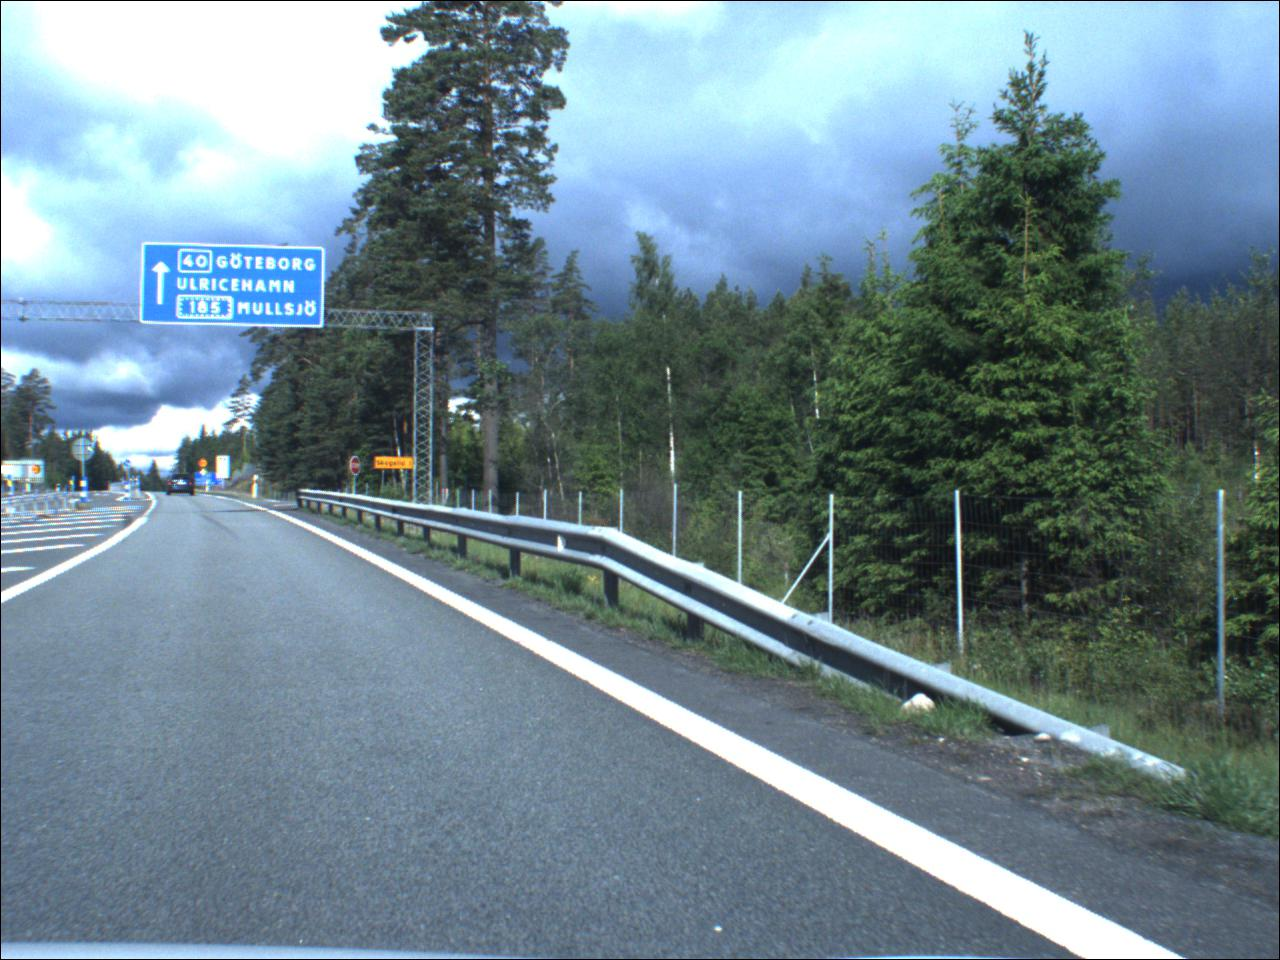100_SIGN: (200, 461, 210, 471), (33, 467, 43, 477)
PASS_RIGHT_SIDE: (127, 461, 134, 469)
PRIORITY_ROAD: (202, 471, 210, 479)
STOP: (352, 456, 365, 477)
